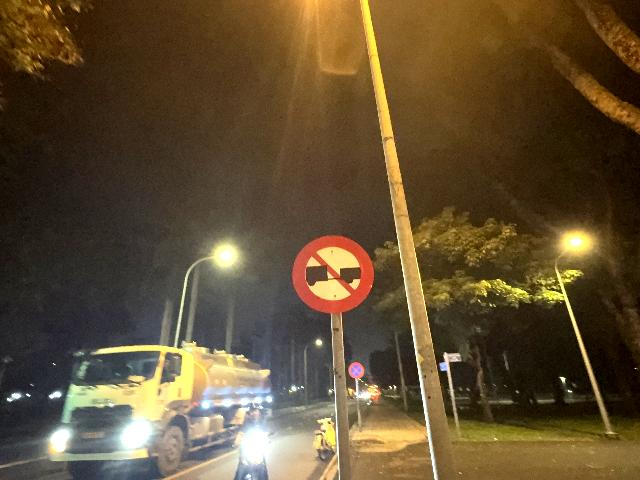cam-xe-somi-romooc: (292, 235, 374, 314)
